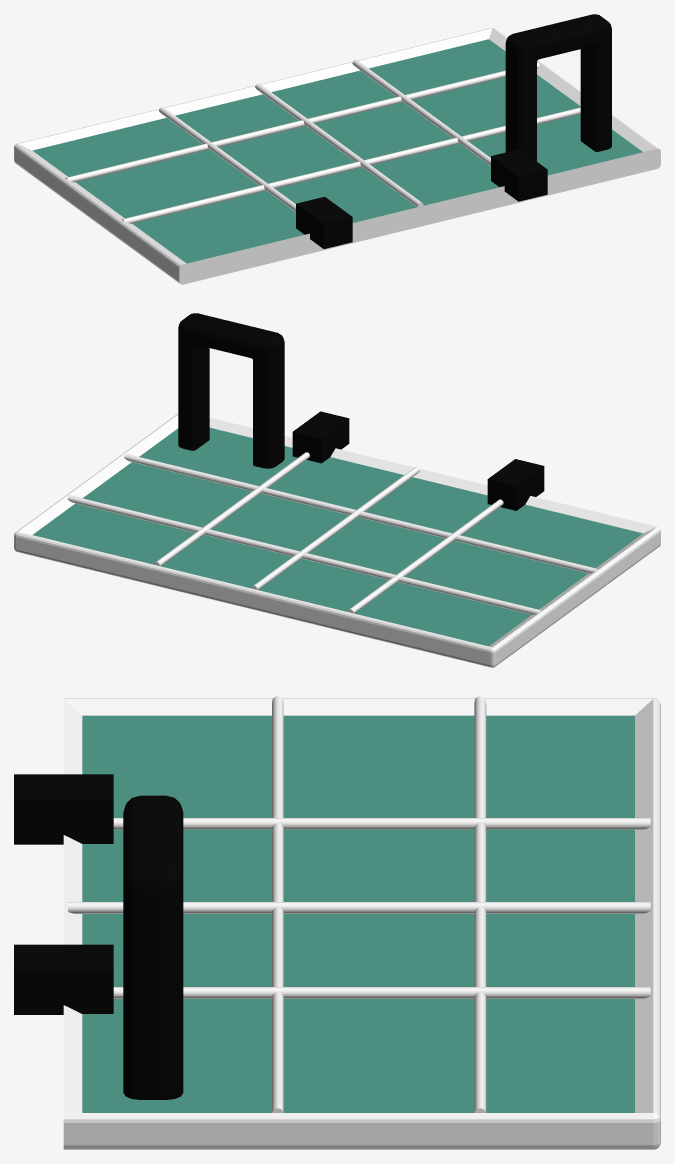
File: 大门块块.fbx
The picture shows the model from 3 angles, top to bottom: view 1: azimuth 30°, elevation 25°; view 2: azimuth 150°, elevation 25°; view 3: azimuth 270°, elevation 25°; orthographic projection. The views are drawn at different scales.
Visible parts, largest first — view 1: Mesh1.001, NURBS路径.004, NURBS路径.003, NURBS路径.001, NURBS路径, NURBS路径.002; view 2: Mesh1.001, NURBS路径.003, NURBS路径.004, NURBS路径.001, NURBS路径.002, NURBS路径; view 3: Mesh1.001, NURBS路径.001, NURBS路径, NURBS路径.002, NURBS路径.004, NURBS路径.003.
Boxes of the visible parts, x1,y1,x2,y2 form: Mesh1.001: (14, 14, 660, 284); NURBS路径.004: (65, 62, 539, 182); NURBS路径.003: (122, 107, 580, 223); NURBS路径.001: (255, 83, 423, 207); NURBS路径: (352, 59, 490, 165); NURBS路径.002: (159, 107, 295, 211); Mesh1.001: (14, 313, 660, 667); NURBS路径.003: (124, 454, 598, 573); NURBS路径.004: (67, 495, 541, 614); NURBS路径.001: (251, 466, 419, 589); NURBS路径.002: (348, 499, 503, 613); NURBS路径: (154, 452, 309, 566); Mesh1.001: (14, 698, 660, 1149); NURBS路径.001: (68, 902, 650, 913); NURBS路径: (113, 987, 650, 998); NURBS路径.002: (113, 818, 650, 829); NURBS路径.004: (474, 696, 486, 1112); NURBS路径.003: (272, 696, 283, 1112).
Size of the model in its own units: 500 by 140 by 325.
